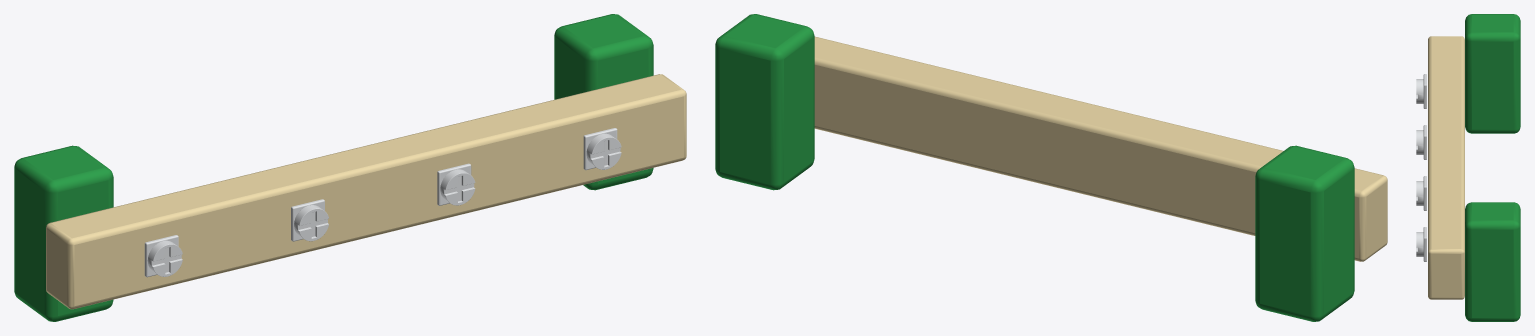
Rendered from ebar.glb.
3 renders of one model, left to right at view 1: azimuth 30°, elevation 25°; view 2: azimuth 150°, elevation 25°; view 3: azimuth 270°, elevation 25°, orthographic. The views are drawn at different scales.
Parts seen in each view (by area): view 1: bar, body; view 2: bar, body; view 3: body, bar.
Boxes of the visible parts, left/top/right/bottom form: bar: left=46, top=74, right=686, bottom=309; body: left=14, top=14, right=653, bottom=321; bar: left=814, top=36, right=1387, bottom=261; body: left=715, top=14, right=1354, bottom=321; body: left=1465, top=14, right=1520, bottom=321; bar: left=1416, top=36, right=1464, bottom=299.
Size of the model in its own units: 0.11 by 0.024 by 0.0225.
